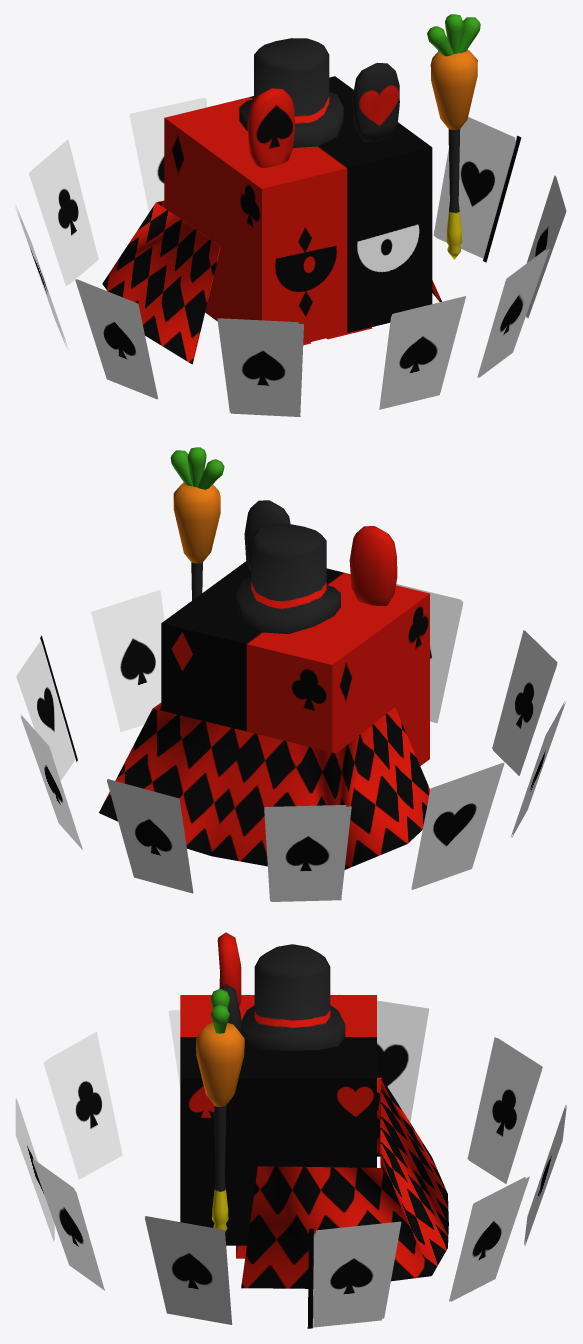
Rendered from Pet_Yin-Yang Bunny.fbx.
3 renders of one model, top to bottom at view 1: azimuth 30°, elevation 25°; view 2: azimuth 150°, elevation 25°; view 3: azimuth 270°, elevation 25°, orthographic.
Parts seen in each view (by area): view 1: Pet_Yin-Yang Bunny, Pet_Yin-Yang Bunny.001; view 2: Pet_Yin-Yang Bunny, Pet_Yin-Yang Bunny.001; view 3: Pet_Yin-Yang Bunny, Pet_Yin-Yang Bunny.001.
Part boxes in pixels (x1,y1,x2,y2): Pet_Yin-Yang Bunny: [15, 38, 566, 416]; Pet_Yin-Yang Bunny.001: [427, 14, 480, 259]; Pet_Yin-Yang Bunny: [16, 500, 565, 901]; Pet_Yin-Yang Bunny.001: [170, 447, 224, 600]; Pet_Yin-Yang Bunny: [15, 932, 566, 1328]; Pet_Yin-Yang Bunny.001: [196, 988, 244, 1231].
Bounding box in the file's own units: 1058 × 638 × 1052.
1 material, 1 textured.
